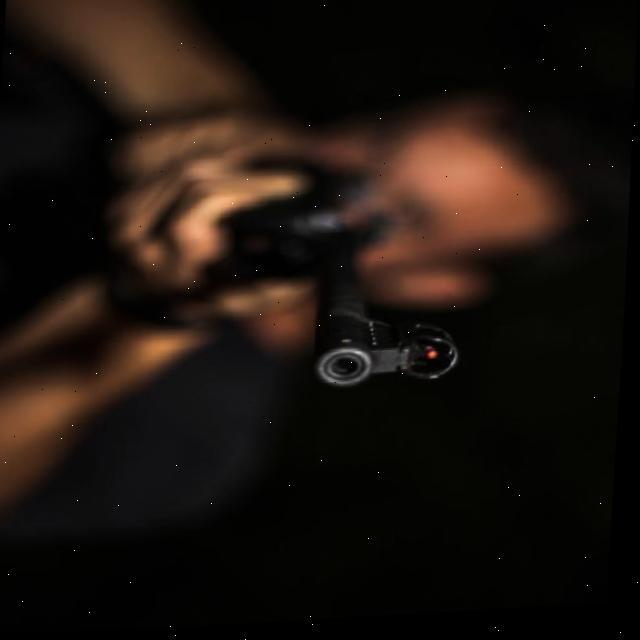gun: (207, 156, 481, 401)
